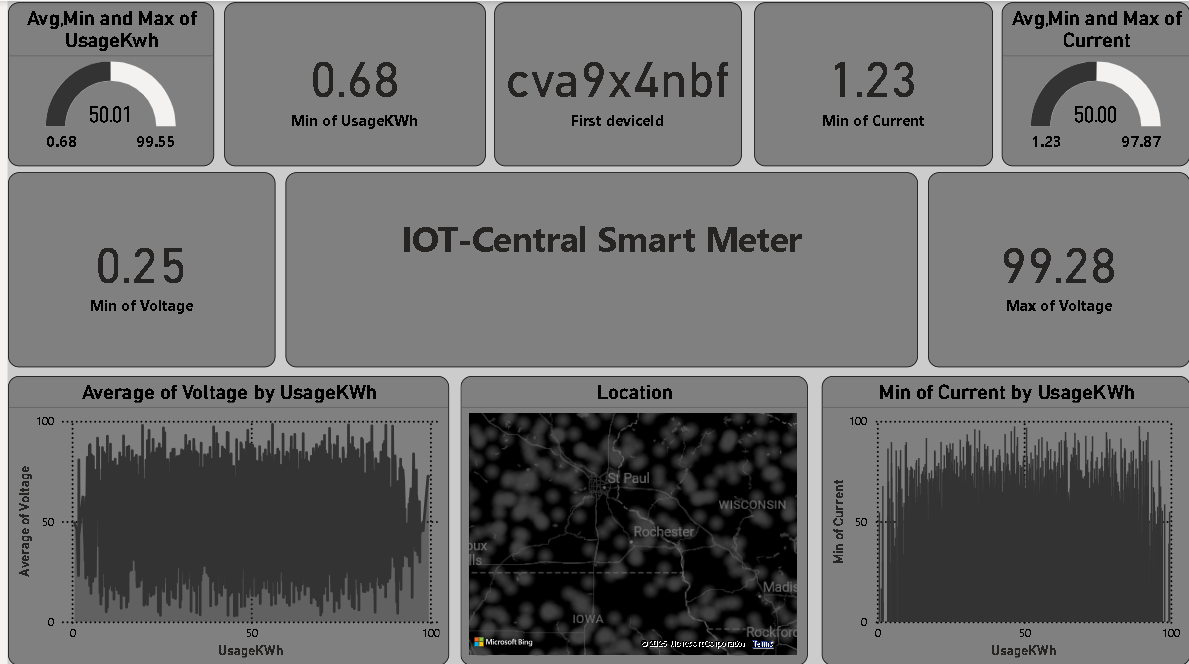

The page's visual inventory and layout, read from the dashboard file:
{"tool":"powerbi","page":{"name":"Page 1","canvas":[1280,720],"ordinal":0},"visuals":[{"type":"map","title":"Location","fields":{"Y":["Gold.Latitude"],"X":["Gold.Longitude"]},"box":[489.9,406,376.2,314],"z":0},{"type":"areaChart","fields":{"Category":["Gold.UsageKWh"],"Y":["Avg(Gold.Voltage)"]},"box":[0,406,477.7,314],"z":1000},{"type":"clusteredColumnChart","fields":{"Y":["Min(Gold.Current)"],"Category":["Gold.UsageKWh"]},"box":[881,406,399.2,314],"z":2000},{"type":"card","fields":{"Values":["Min(Gold.deviceId)"]},"box":[526.5,1.4,268,177.3],"z":2001},{"type":"card","fields":{"Values":["Min(Gold.Current)"]},"box":[808,1.4,258.5,177.3],"z":2002},{"type":"gauge","title":"Avg,Min and Max of Current","fields":{"Y":["Avg(Gold.Current)"],"MinValue":["Min(Gold.Current)"],"MaxValue":["Max(Gold.Current)"]},"box":[1075.9,1.4,204.4,177.3],"z":2003},{"type":"card","fields":{"Values":["Min(Gold.UsageKWh)"]},"box":[234.1,1.4,282.9,177.3],"z":2004},{"type":"gauge","title":"Avg,Min and Max of UsageKwh","fields":{"Y":["Avg(Gold.UsageKWh)"],"MinValue":["Min(Gold.UsageKWh)"],"MaxValue":["Max(Gold.UsageKWh)"]},"box":[0,1.4,223.3,177.3],"z":2005},{"type":"textbox","box":[300.4,185.4,684.8,211.1],"z":2006},{"type":"card","fields":{"Values":["Min(Gold.Voltage)"]},"box":[0,185.4,289.6,211.1],"z":2007},{"type":"card","fields":{"Values":["Max(Gold.Voltage)"]},"box":[996.1,185.4,284.2,211.1],"z":2008}]}

Visuals, with their boxes in screenshot pixels (x1, y1, x2, y2), scaled from the page's 1280x720 canvas onto the 1189x664 screenshot:
"Location" map: <bbox>455, 374, 805, 663</bbox>
areaChart - Gold.UsageKWh x Avg(Gold.Voltage): <bbox>0, 374, 444, 663</bbox>
clusteredColumnChart - Min(Gold.Current) x Gold.UsageKWh: <bbox>818, 374, 1188, 663</bbox>
card - Min(Gold.deviceId): <bbox>489, 1, 738, 165</bbox>
card - Min(Gold.Current): <bbox>751, 1, 991, 165</bbox>
"Avg,Min and Max of Current" gauge: <bbox>999, 1, 1188, 165</bbox>
card - Min(Gold.UsageKWh): <bbox>217, 1, 480, 165</bbox>
"Avg,Min and Max of UsageKwh" gauge: <bbox>0, 1, 207, 165</bbox>
textbox: <bbox>279, 171, 915, 366</bbox>
card - Min(Gold.Voltage): <bbox>0, 171, 269, 366</bbox>
card - Max(Gold.Voltage): <bbox>925, 171, 1188, 366</bbox>
